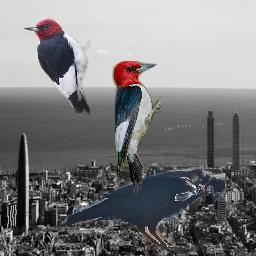Crow: (60, 167, 227, 253)
Woodpecker: (110, 61, 166, 196), (23, 18, 90, 115)
